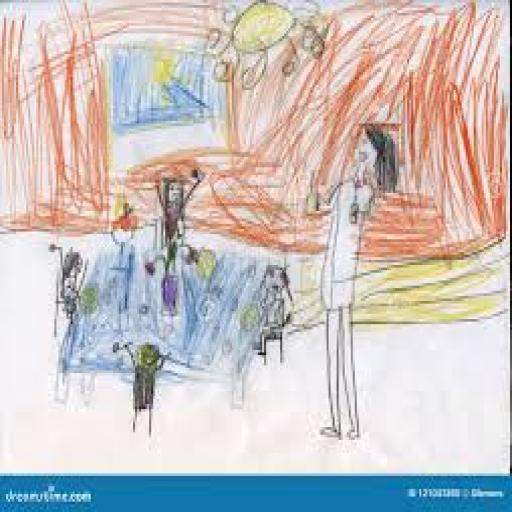person: (310, 119, 402, 458), (136, 170, 212, 322), (90, 335, 187, 444), (242, 254, 299, 378), (45, 237, 99, 337)
